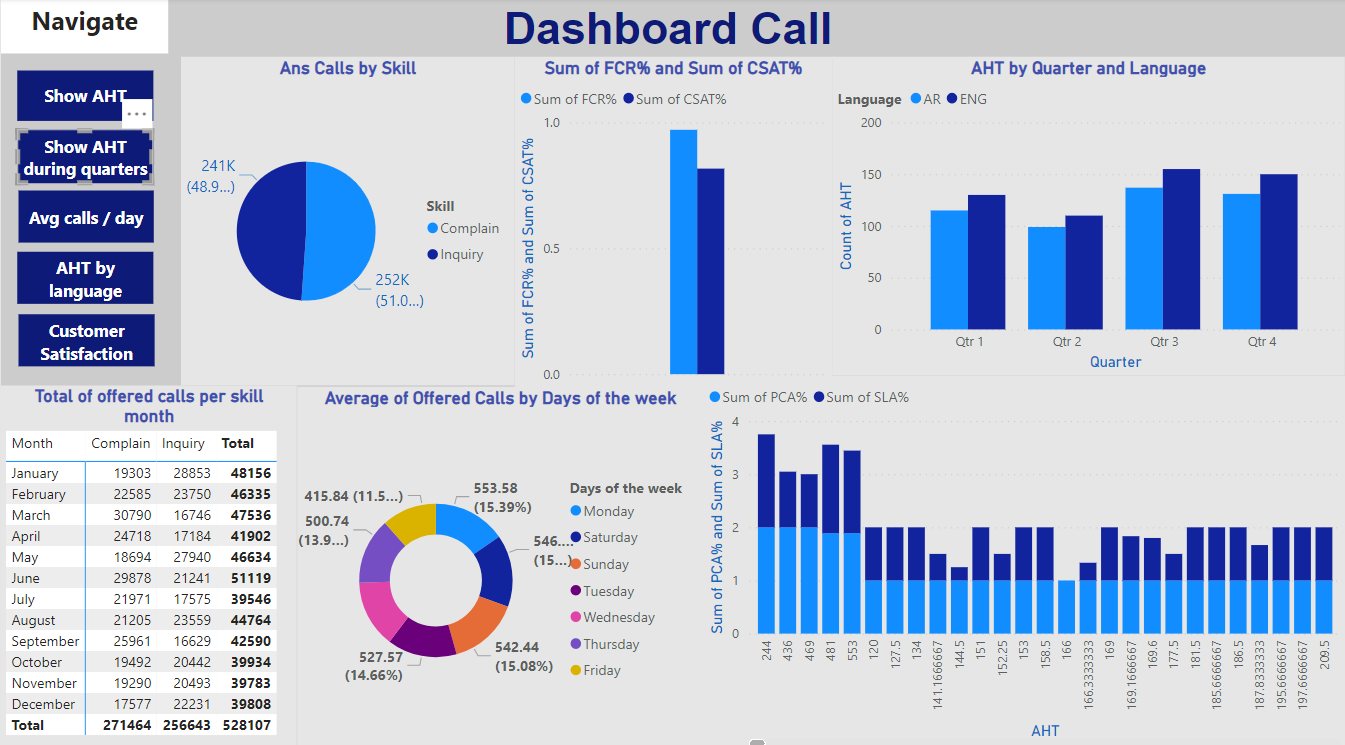

What the dashboard file says about the page in this screenshot:
{"tool":"powerbi","page":{"name":"Dashboard","canvas":[1280,720],"ordinal":1},"visuals":[{"type":"textbox","box":[473.8,0,332.5,68.8],"z":1000},{"type":"columnChart","fields":{"Category":["Calls Data.AHT"],"Y":["Sum(Calls Data.PCA%)","Sum(Calls Data.SLA%)"]},"box":[668.7,359.7,611.9,359.7],"z":2000},{"type":"pivotTable","title":" Total of offered calls per skill month ","fields":{"Rows":["Calls Data.Date.Variation.Date Hierarchy.Month"],"Values":["Sum(Calls Data.Offered Calls )"],"Columns":["Calls Data.Skill"]},"box":[0,369.5,281.9,350.3],"z":4000},{"type":"clusteredColumnChart","title":"AHT by Quarter and Language","fields":{"Category":["Calls Data.Date.Variation.Date Hierarchy.Quarter"],"Series":["Calls Data.Language"],"Y":["CountNonNull(Calls Data.AHT)"]},"box":[791.7,56.3,488.3,303.4],"z":5000},{"type":"pieChart","title":"Ans Calls by Skill","fields":{"Y":["Sum(Calls Data.Ans Calls)"],"Category":["Calls Data.Skill"]},"box":[171.4,55.9,317.8,313],"z":6000},{"type":"lineClusteredColumnComboChart","fields":{"Y":["Sum(CSAT Data.FCR%)","Sum(CSAT Data.CSAT%)"]},"box":[489.1,55.9,302.3,316.6],"z":8000},{"type":"donutChart","fields":{"Category":["Calls Data.Days of the week"],"Y":["Avg(Calls Data.Offered Calls )"]},"box":[281.7,370.4,387.2,349.6],"z":9000},{"type":"actionButton","box":[15.5,69,129.7,47.6],"z":10000},{"type":"textbox","box":[0,0,159.6,52.8],"z":11000},{"type":"actionButton","box":[16.7,183.3,128.5,50],"z":12000},{"type":"actionButton","box":[15.5,125,129.7,52.4],"z":13000},{"type":"actionButton","box":[15.5,241.6,129.7,50],"z":14000},{"type":"actionButton","box":[16.7,301.1,129.7,50],"z":15000}]}

Visuals, with their boxes in screenshot pixels (x1, y1, x2, y2), scaled from the page's 1280x720 canvas onto the 1345x745 screenshot:
textbox: 498, 0, 847, 71
columnChart - Calls Data.AHT x Sum(Calls Data.PCA%): 703, 372, 1344, 744
" Total of offered calls per skill month " pivotTable: 0, 382, 296, 744
"AHT by Quarter and Language" clusteredColumnChart: 832, 58, 1344, 372
"Ans Calls by Skill" pieChart: 180, 58, 514, 382
lineClusteredColumnComboChart - Sum(CSAT Data.FCR%) x Sum(CSAT Data.CSAT%): 514, 58, 832, 385
donutChart - Calls Data.Days of the week x Avg(Calls Data.Offered Calls ): 296, 383, 703, 744
actionButton: 16, 71, 153, 121
textbox: 0, 0, 168, 55
actionButton: 18, 190, 153, 241
actionButton: 16, 129, 153, 184
actionButton: 16, 250, 153, 302
actionButton: 18, 312, 154, 363
